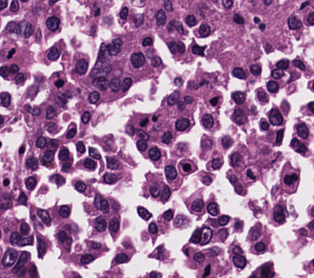nucleus: (91, 63, 111, 76), (107, 38, 122, 55), (200, 226, 212, 245), (93, 76, 109, 90), (232, 109, 246, 124), (37, 209, 50, 225), (98, 43, 108, 63), (20, 22, 33, 37), (131, 52, 144, 67), (269, 109, 282, 124), (273, 205, 284, 222), (46, 16, 59, 30), (137, 206, 151, 219), (6, 21, 21, 33), (249, 224, 260, 240), (167, 91, 179, 105), (175, 118, 189, 130), (174, 215, 188, 227), (76, 59, 87, 74), (42, 150, 53, 165), (47, 47, 59, 60), (232, 91, 245, 103), (191, 198, 203, 211), (201, 114, 212, 128), (230, 152, 241, 166), (165, 165, 176, 179), (95, 217, 106, 231), (156, 9, 165, 25), (198, 24, 210, 36), (84, 158, 96, 170), (10, 232, 22, 244), (192, 44, 205, 55), (232, 67, 245, 78), (149, 147, 160, 160), (207, 202, 218, 215), (58, 231, 69, 244), (121, 77, 131, 91), (0, 92, 10, 106), (190, 229, 200, 243), (55, 94, 66, 106), (221, 136, 232, 148), (26, 157, 37, 169), (234, 182, 245, 194), (110, 78, 120, 91), (275, 129, 283, 145), (162, 185, 170, 201), (59, 147, 68, 161), (185, 15, 196, 26), (267, 81, 278, 92), (137, 129, 148, 140), (89, 147, 100, 158), (107, 157, 118, 168), (211, 158, 222, 169), (53, 174, 64, 185), (89, 91, 99, 103), (104, 173, 116, 183), (25, 177, 35, 189), (59, 205, 69, 217), (27, 106, 40, 115), (99, 199, 108, 212), (109, 218, 118, 231), (20, 222, 29, 235), (250, 64, 260, 75), (257, 90, 267, 101), (46, 122, 57, 132), (201, 138, 211, 149), (163, 209, 173, 220), (218, 215, 229, 225), (119, 7, 128, 19), (46, 106, 55, 118), (162, 131, 171, 143), (94, 194, 102, 207), (151, 56, 161, 66), (36, 137, 46, 147), (75, 181, 85, 191), (163, 0, 172, 11), (0, 66, 9, 77), (271, 69, 282, 78), (15, 73, 24, 84), (66, 127, 75, 138), (137, 139, 146, 150), (150, 185, 159, 196), (148, 222, 157, 233), (134, 14, 142, 26), (175, 21, 183, 33), (168, 41, 176, 53), (81, 111, 89, 123), (18, 192, 26, 204), (233, 14, 243, 23), (246, 169, 255, 179), (218, 229, 227, 239), (10, 0, 18, 11), (167, 20, 175, 31), (176, 41, 184, 52), (126, 124, 134, 135), (76, 142, 84, 153), (182, 163, 191, 172), (202, 175, 211, 184), (222, 0, 232, 8), (142, 37, 152, 45), (62, 161, 70, 171), (50, 139, 57, 150), (9, 64, 18, 72), (54, 79, 63, 87), (260, 121, 268, 130), (229, 175, 237, 184), (174, 77, 182, 85), (210, 97, 218, 105), (234, 221, 242, 229), (0, 0, 7, 9), (7, 49, 14, 58), (91, 242, 100, 249), (184, 96, 192, 103), (140, 118, 147, 126), (266, 44, 272, 52), (178, 102, 184, 110), (19, 145, 24, 153), (3, 179, 9, 185), (260, 24, 265, 30), (95, 8, 99, 15), (254, 17, 259, 22), (212, 220, 216, 226), (264, 1, 271, 4), (152, 116, 156, 121), (49, 1, 55, 4), (0, 116, 2, 124)
